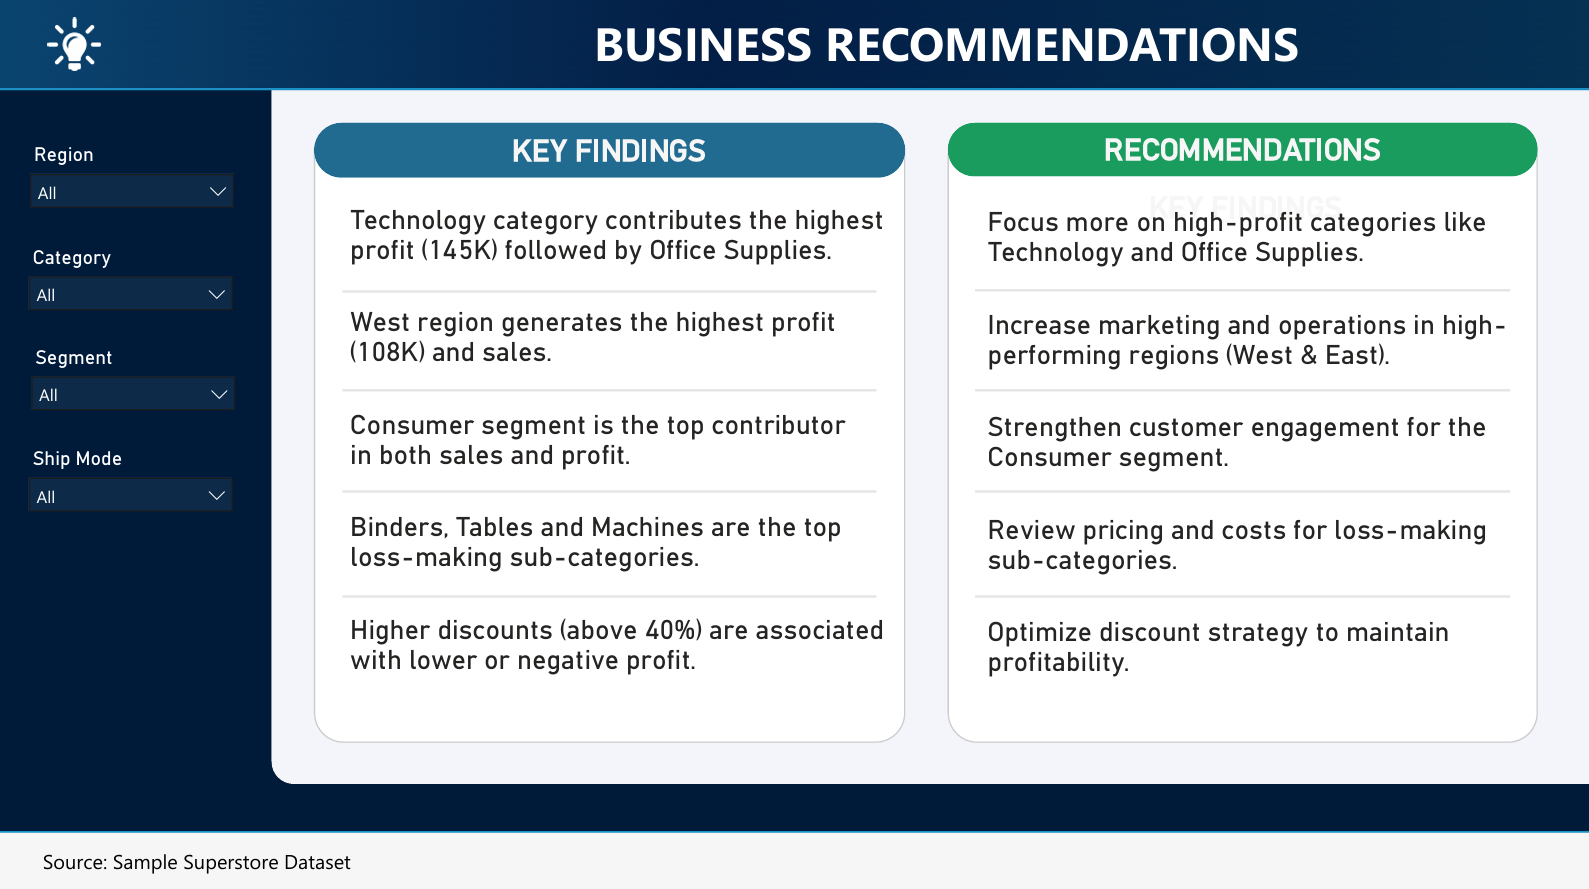

The page's visual inventory and layout, read from the dashboard file:
{"tool":"powerbi","page":{"name":"Business Recommendations","canvas":[1280,720],"ordinal":4},"visuals":[{"type":"shape","box":[222.2,38.5,1057.6,593.3],"z":0},{"type":"image","box":[1.2,0,1278.5,77],"z":1000},{"type":"textbox","box":[243.8,9,1036.2,63.8],"z":2000},{"type":"shape","box":[0,670.3,1279.8,49.7],"z":4000},{"type":"textbox","box":[33.8,670,530,50],"z":5000},{"type":"slicer","fields":{"Values":["Cleaned_Superstore.Region"]},"box":[19.3,114.4,182.6,81.4],"z":6000},{"type":"slicer","fields":{"Values":["Cleaned_Superstore.Category"]},"box":[18.1,195.8,182.6,81.4],"z":7000},{"type":"slicer","fields":{"Values":["Cleaned_Superstore.Segment"]},"box":[20.4,276,182.6,81.4],"z":8000},{"type":"slicer","fields":{"Values":["Cleaned_Superstore.Ship_Mode"]},"box":[18.1,357.4,182.6,81.4],"z":9000},{"type":"image","box":[17.4,18.6,94.3,43.4],"z":10000},{"type":"shape","box":[256.2,122.5,472.5,476.2],"z":12500},{"type":"shape","box":[255.7,102.7,472.9,44.7],"z":13000},{"type":"textbox","box":[401.1,106.7,182.2,40.6],"z":14000},{"type":"shape","box":[762.5,127.5,472.5,471.2],"z":15000},{"type":"shape","box":[762.5,102.5,472.5,43.8],"z":16000},{"type":"textbox","box":[910.1,151.7,182.2,40.6],"z":17000},{"type":"textbox","box":[762.5,106.2,472.5,41.2],"z":18000},{"type":"textbox","box":[775,147.5,460,451.2],"z":18500},{"type":"textbox","box":[265,146.2,463.8,442.5],"z":19001},{"type":"shape","box":[278.8,141.2,427.5,193.8],"z":19002},{"type":"shape","box":[785,140,427.5,193.8],"z":19003},{"type":"shape","box":[278.8,220,427.5,193.8],"z":19004},{"type":"shape","box":[785,220,427.5,193.8],"z":19005},{"type":"shape","box":[278.8,301.2,427.5,193.8],"z":19006},{"type":"shape","box":[785,301.2,427.5,193.8],"z":19007},{"type":"shape","box":[278.8,385,427.5,193.8],"z":19008},{"type":"shape","box":[785,385,427.5,193.8],"z":19009}]}

Visuals, with their boxes in screenshot pixels (x1, y1, x2, y2), scaled from the page's 1280x720 canvas onto the 1589x889 screenshot:
shape: select_region(276, 48, 1588, 780)
image: select_region(1, 0, 1588, 95)
textbox: select_region(303, 11, 1588, 90)
shape: select_region(0, 828, 1588, 888)
textbox: select_region(42, 827, 700, 888)
slicer - Cleaned_Superstore.Region: select_region(24, 141, 251, 242)
slicer - Cleaned_Superstore.Category: select_region(22, 242, 249, 342)
slicer - Cleaned_Superstore.Segment: select_region(25, 341, 252, 441)
slicer - Cleaned_Superstore.Ship_Mode: select_region(22, 441, 249, 542)
image: select_region(22, 23, 139, 77)
shape: select_region(318, 151, 905, 739)
shape: select_region(317, 127, 904, 182)
textbox: select_region(498, 132, 724, 182)
shape: select_region(947, 157, 1533, 739)
shape: select_region(947, 127, 1533, 181)
textbox: select_region(1130, 187, 1356, 237)
textbox: select_region(947, 131, 1533, 182)
textbox: select_region(962, 182, 1533, 739)
textbox: select_region(329, 181, 905, 727)
shape: select_region(346, 174, 877, 414)
shape: select_region(975, 173, 1505, 412)
shape: select_region(346, 272, 877, 511)
shape: select_region(975, 272, 1505, 511)
shape: select_region(346, 372, 877, 611)
shape: select_region(975, 372, 1505, 611)
shape: select_region(346, 475, 877, 715)
shape: select_region(975, 475, 1505, 715)
